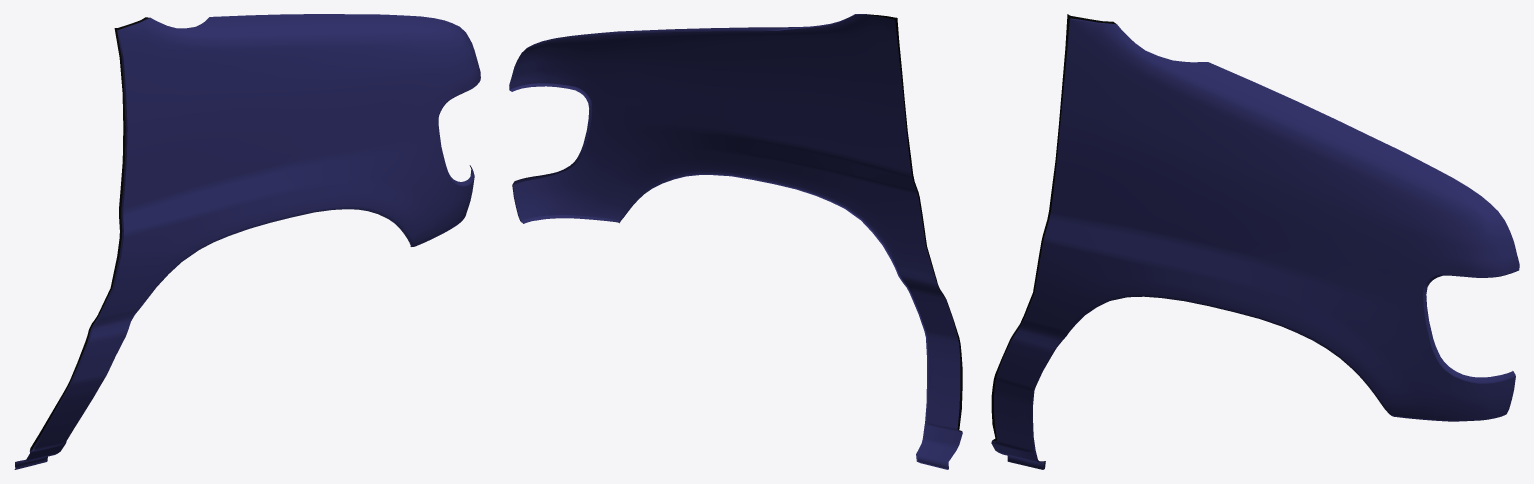
The picture shows the model from 3 angles, left to right: view 1: azimuth 30°, elevation 25°; view 2: azimuth 150°, elevation 25°; view 3: azimuth 330°, elevation 25°; orthographic projection. The views are drawn at different scales.
Parts seen in each view (by area): view 1: P615_5A_141B_R_1_DaS_P615_5A_141B_R, P615_5A_141B_R_1_DaS_P615_5A_141B_R_E, P615_5A_141B_R_P615_5A_141B_R_2_D; view 2: P615_5A_141B_R_1_DaS_P615_5A_141B_R, P615_5A_141B_R_1_DaS_P615_5A_141B_R_E, P615_5A_141B_R_P615_5A_141B_R_2_D; view 3: P615_5A_141B_R_1_DaS_P615_5A_141B_R, P615_5A_141B_R_1_DaS_P615_5A_141B_R_E, P615_5A_141B_R_P615_5A_141B_R_2_D.
Boxes of the visible parts, x1,y1,x2,y2 form: P615_5A_141B_R_1_DaS_P615_5A_141B_R: [15, 14, 480, 469]; P615_5A_141B_R_1_DaS_P615_5A_141B_R_E: [14, 17, 476, 469]; P615_5A_141B_R_P615_5A_141B_R_2_D: [30, 17, 148, 450]; P615_5A_141B_R_1_DaS_P615_5A_141B_R: [509, 15, 962, 468]; P615_5A_141B_R_1_DaS_P615_5A_141B_R_E: [509, 14, 949, 469]; P615_5A_141B_R_P615_5A_141B_R_2_D: [858, 14, 962, 431]; P615_5A_141B_R_1_DaS_P615_5A_141B_R: [991, 19, 1519, 469]; P615_5A_141B_R_1_DaS_P615_5A_141B_R_E: [993, 18, 1519, 469]; P615_5A_141B_R_P615_5A_141B_R_2_D: [991, 14, 1116, 441].
Size of the model in its own units: 119 by 108 by 17.83.
